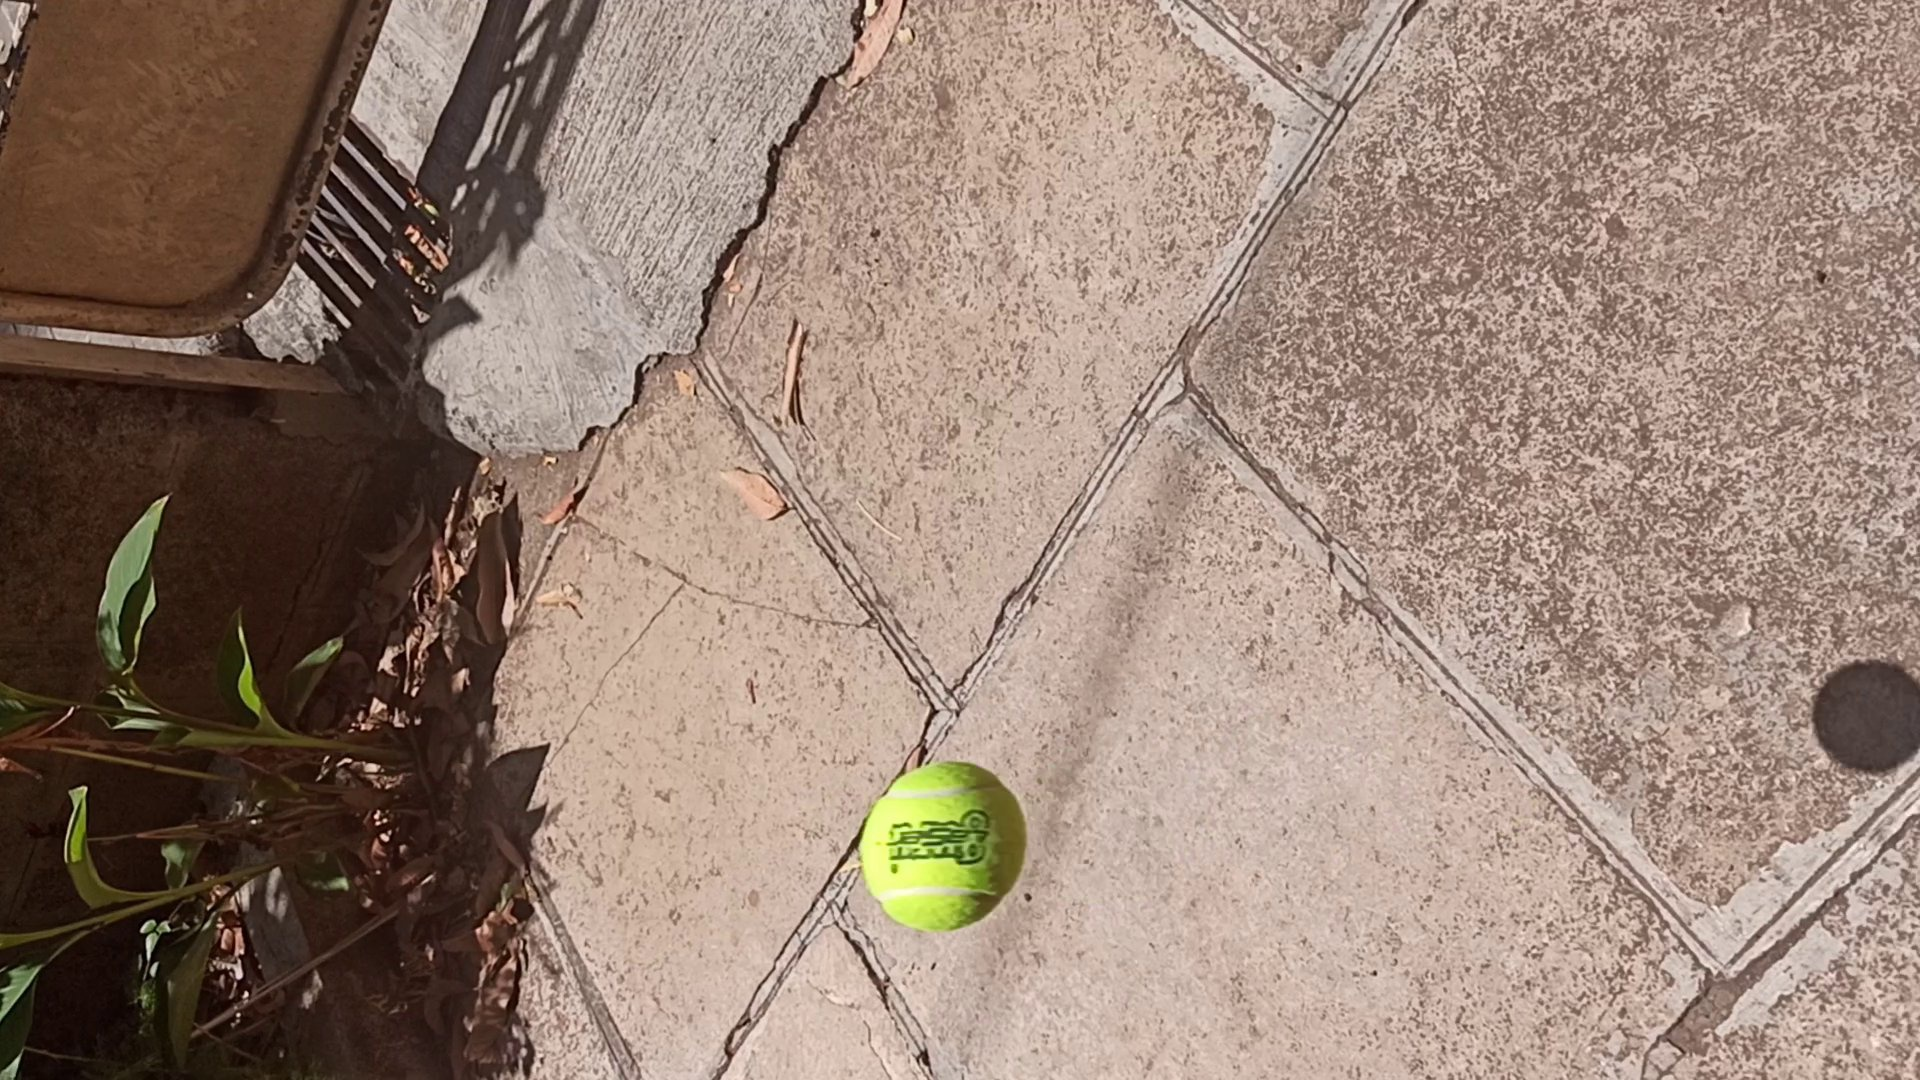Tennis-Ball: (861, 761, 1027, 930)
